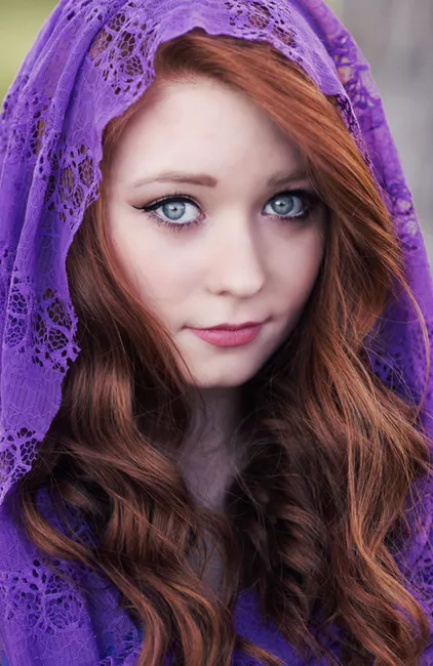face: (99, 63, 333, 394)
